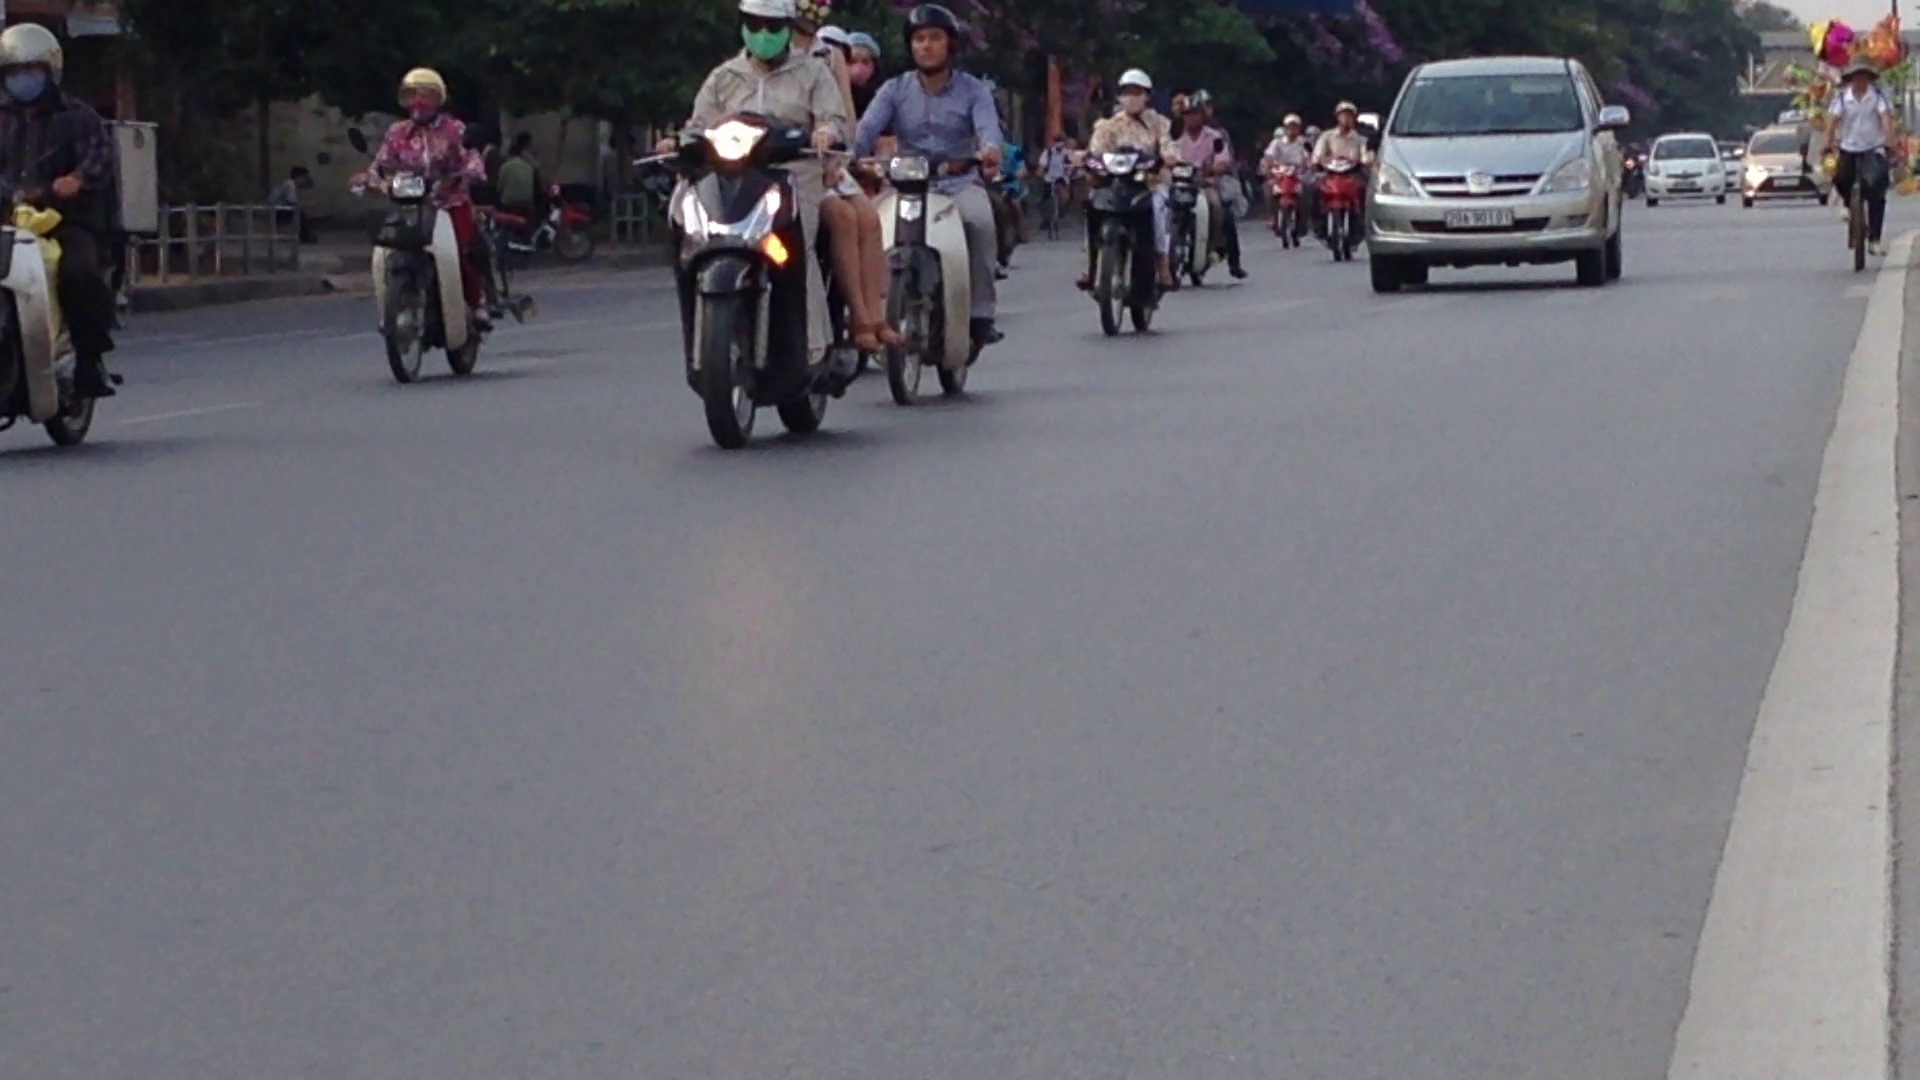vehicle-plate: (1441, 204, 1517, 231)
